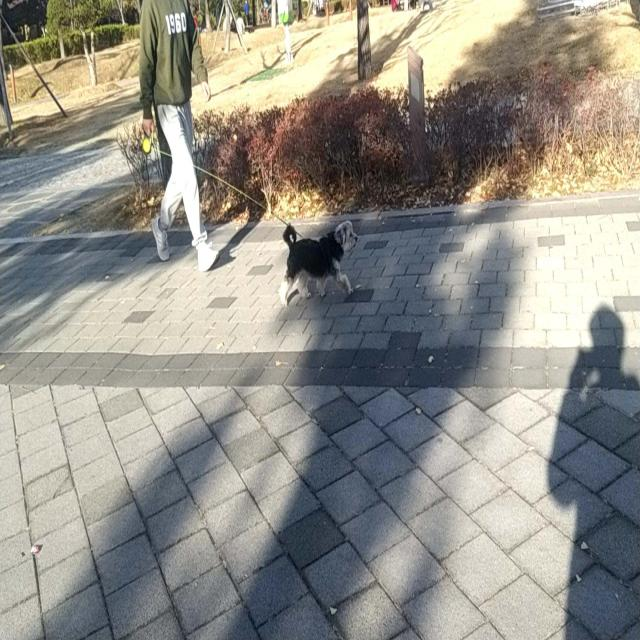Leashed_Dog: (142, 110, 358, 307)
